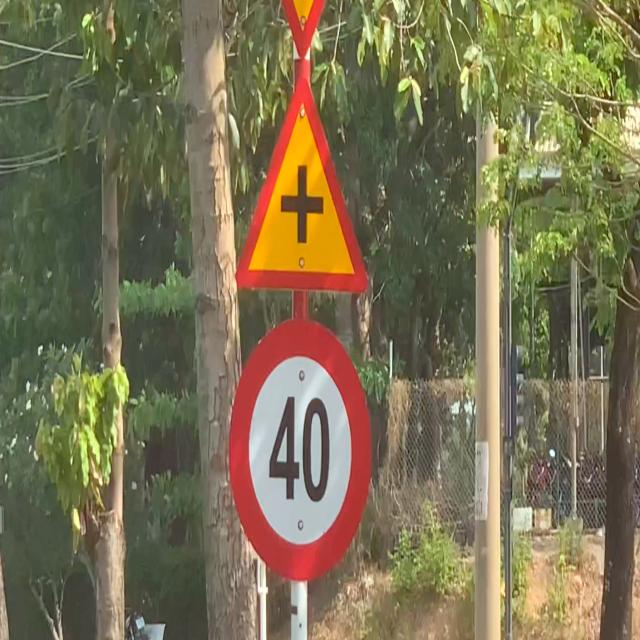Duong giao nhau: (231, 60, 378, 308)
Toc do toi da: (228, 319, 370, 588)
